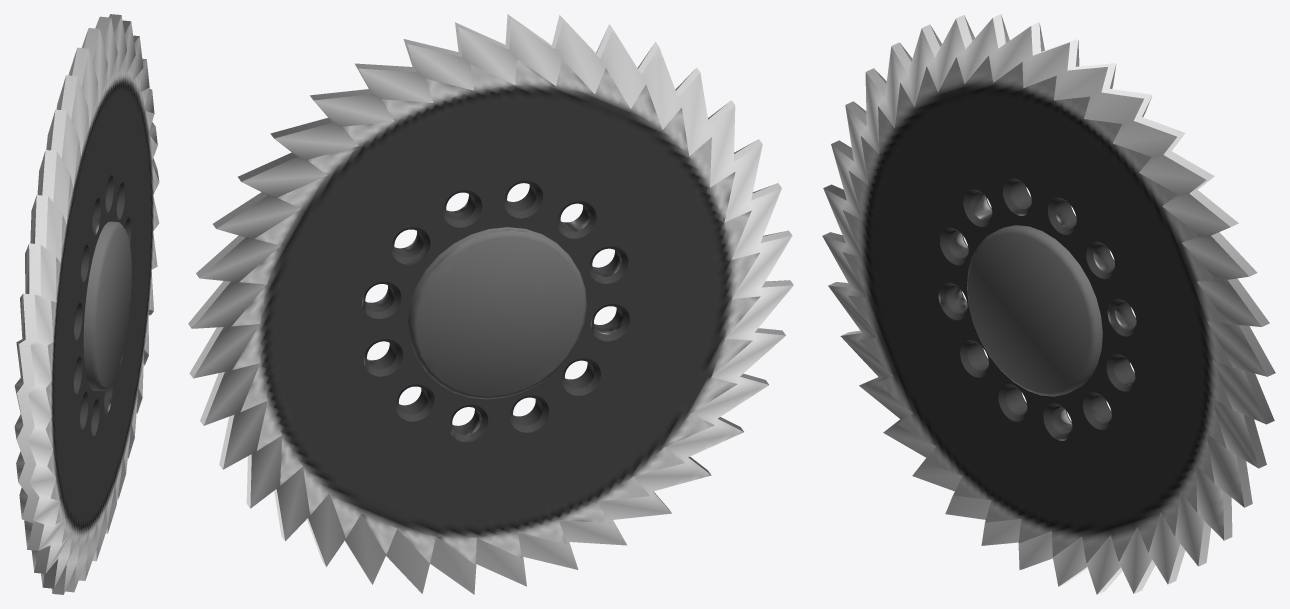
File: pila.fbx
3 views of the same model, side by side, from view 1: azimuth 30°, elevation 25°; view 2: azimuth 150°, elevation 25°; view 3: azimuth 270°, elevation 25° (orthographic). The views are drawn at different scales.
Parts seen in each view (by area): view 1: SAW_2.002; view 2: SAW_2.002; view 3: SAW_2.002.
Boxes of the visible parts, box(x1,y1,x2,y2) form: SAW_2.002: box(14, 14, 159, 594); SAW_2.002: box(188, 14, 793, 594); SAW_2.002: box(822, 14, 1275, 594).
Bounding box in the file's own units: 208 × 299 × 223.
1 material, 1 textured.
